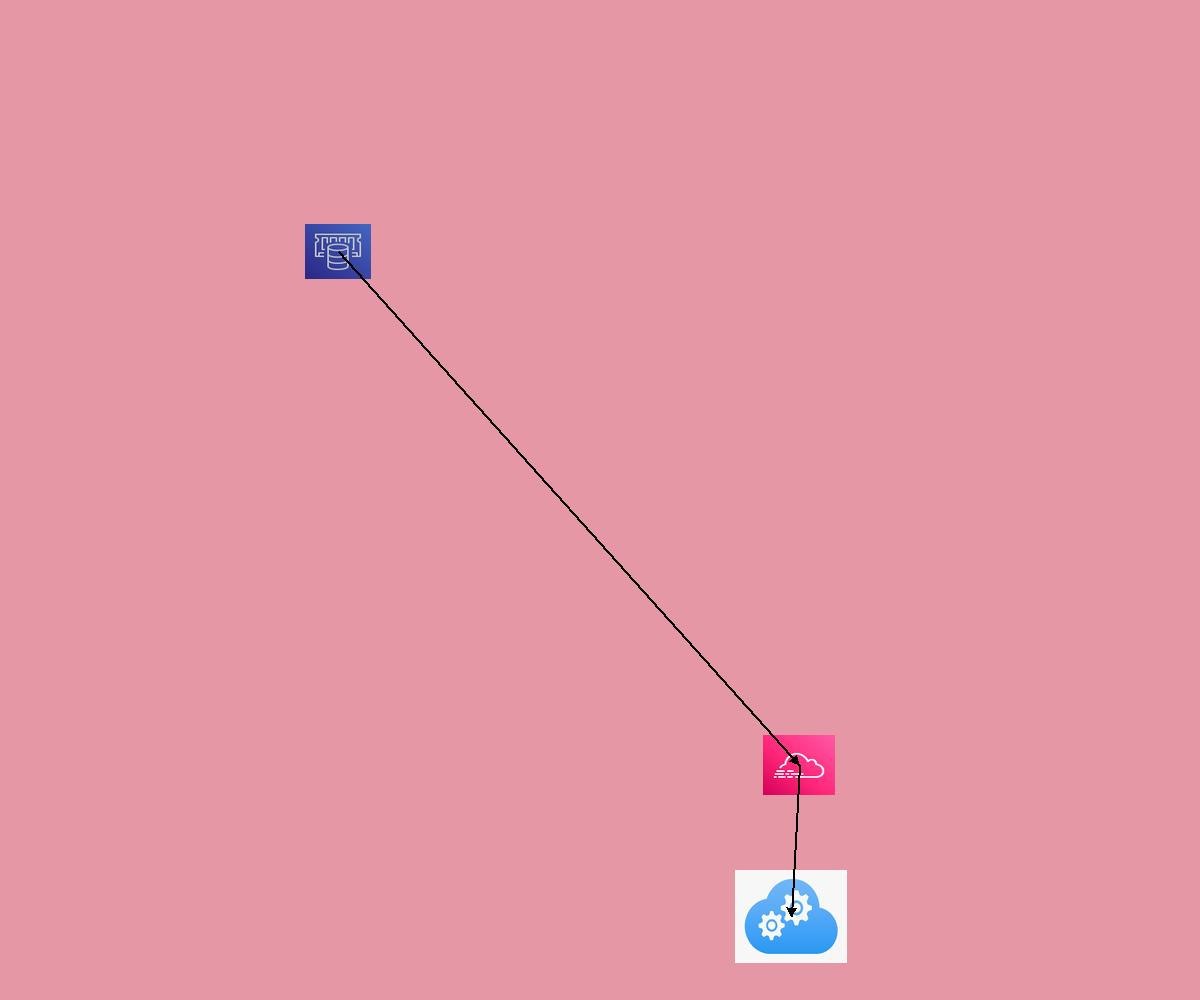AWS-CloudTrail: (763, 735, 835, 795)
AWS-ElastiCache: (305, 224, 371, 279)
Azure_cloud_services: (735, 870, 847, 963)
